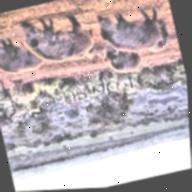boar: (15, 3, 99, 77), (91, 0, 166, 61), (95, 36, 149, 81), (0, 28, 45, 79)
